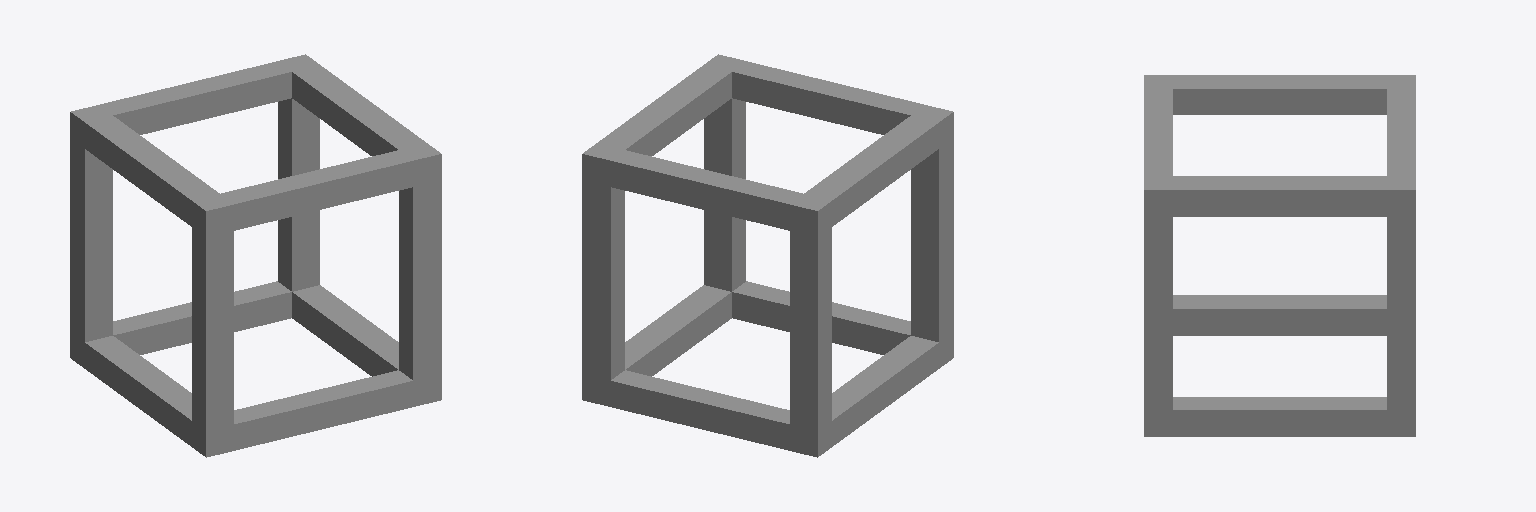
File: SelectorCube.obj
3 views of the same model, side by side, from view 1: azimuth 30°, elevation 25°; view 2: azimuth 150°, elevation 25°; view 3: azimuth 270°, elevation 25° (orthographic).
Visible parts, largest first — view 1: Cube.002_Cube.004; view 2: Cube.002_Cube.004; view 3: Cube.002_Cube.004.
Boxes of the visible parts, x1=… form: Cube.002_Cube.004: x1=70, y1=54, x2=441, y2=457; Cube.002_Cube.004: x1=582, y1=54, x2=953, y2=457; Cube.002_Cube.004: x1=1144, y1=75, x2=1415, y2=436.
Size of the model in its own units: 2.3 by 2.3 by 2.3.